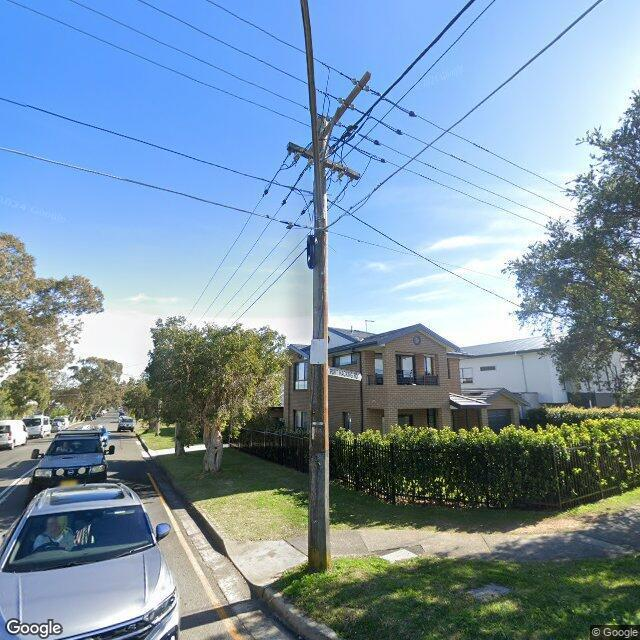crossarm: (322, 70, 372, 138), (286, 142, 362, 182)
timber-pole: (310, 116, 329, 566)
